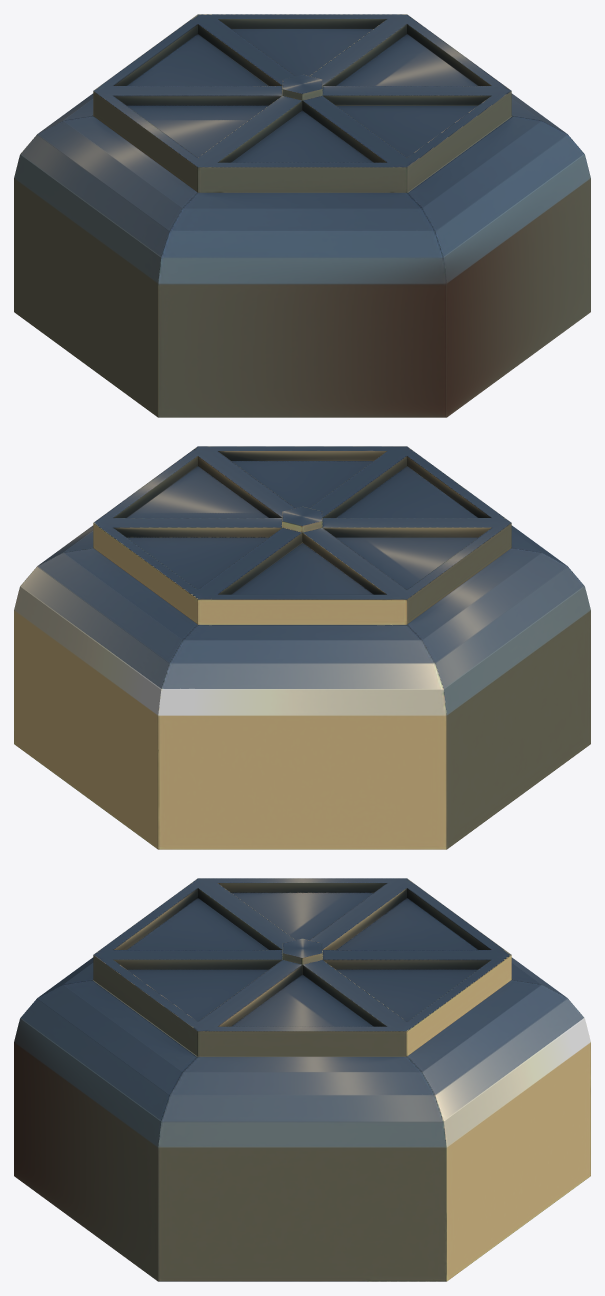
Rendered from Arkanoid_Assets.fbx.
The picture shows the model from 3 angles, top to bottom: view 1: azimuth 30°, elevation 25°; view 2: azimuth 150°, elevation 25°; view 3: azimuth 270°, elevation 25°; orthographic projection.
Visible parts, largest first — view 1: Obstaculo; view 2: Obstaculo; view 3: Obstaculo.
Part boxes in pixels (<box>): Obstaculo: <box>14,14,590,417</box>; Obstaculo: <box>14,446,590,849</box>; Obstaculo: <box>14,878,590,1281</box>.
Size of the model in its own units: 346 by 174 by 400.
1 material, 1 textured.
